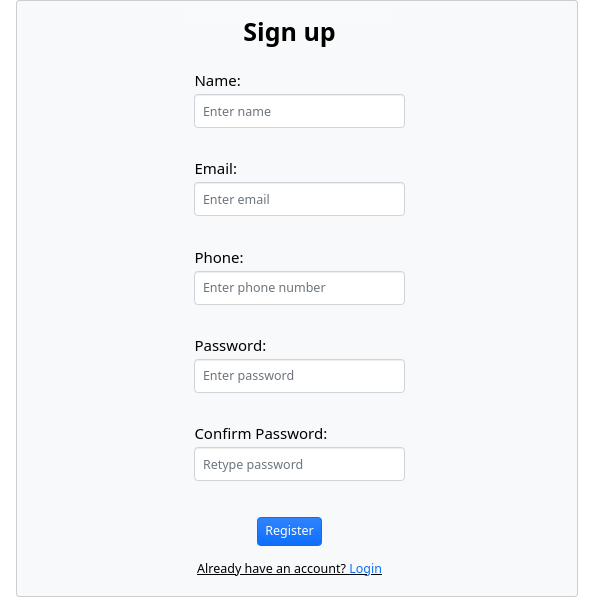
Test: Register › email verification
Type "^%ghijkyh@gmail.com" into the field with test id "email". click: (300, 199)
box: x1=194 y1=182 x2=405 y2=216
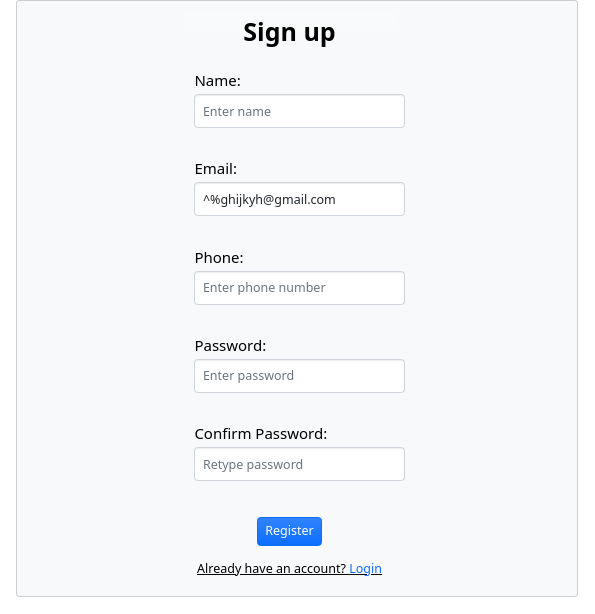
Leave the field with test id "email", box x1=194 y1=182 x2=405 y2=216
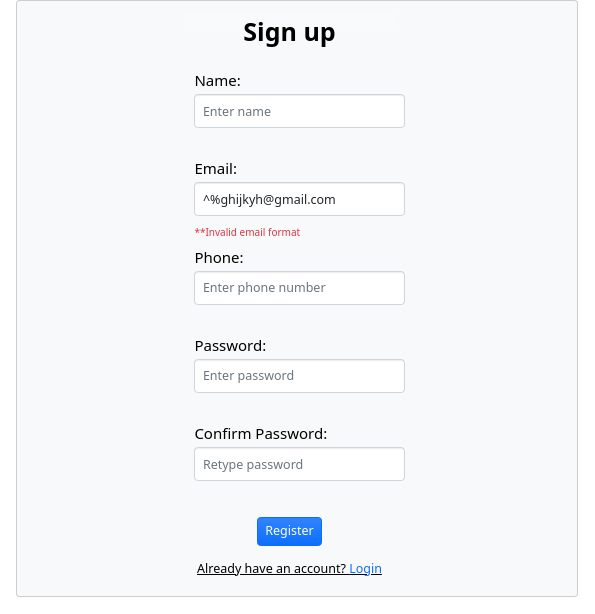
Check: the text "**Invalid email format" is shown, box x1=194 y1=225 x2=300 y2=239
